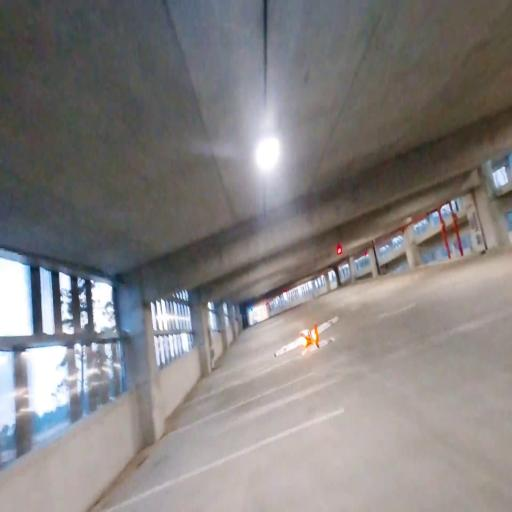uav: (269, 311, 345, 361)
